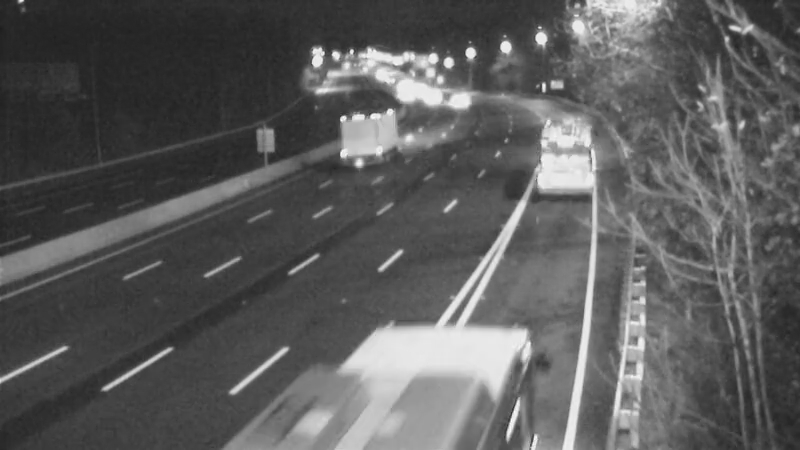vehicle: (376, 70, 426, 120), (398, 71, 448, 121), (428, 75, 478, 125), (530, 106, 580, 156), (340, 102, 390, 152)
